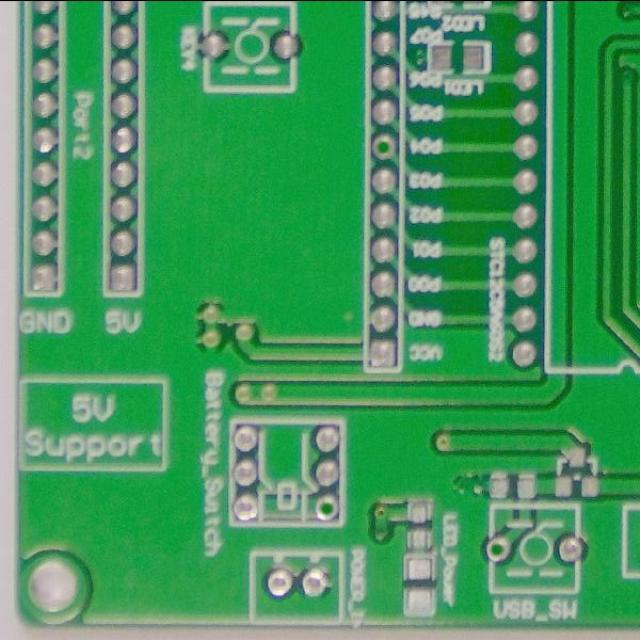Missing_Hole: (310, 492, 342, 524), (481, 534, 515, 564), (370, 131, 398, 163)
